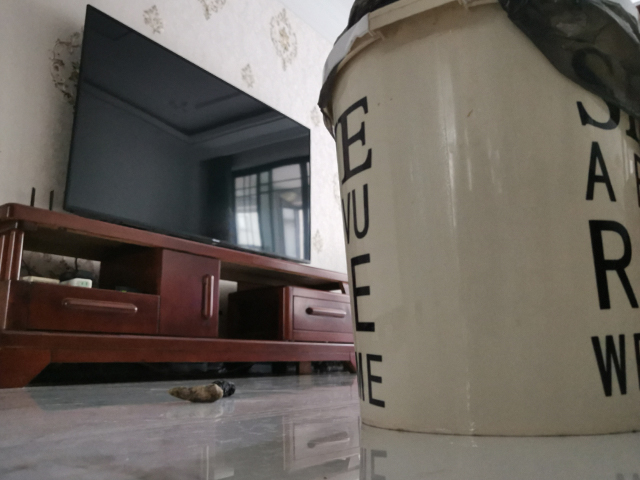cabinet: (1, 201, 357, 391)
feces: (167, 378, 236, 405)
trashcan: (314, 1, 640, 440)
